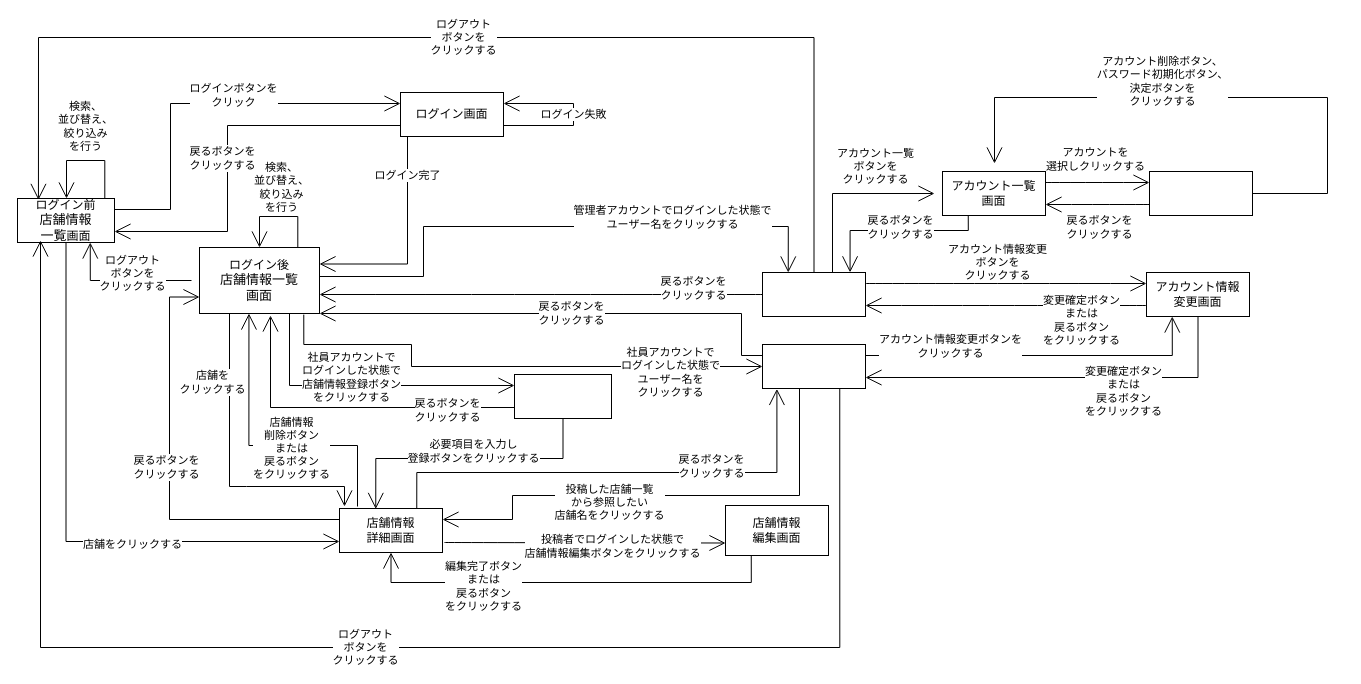
Image size: 1361x684. Some labels were removed from this diagram. The box of each missing label's shape, as (x1, y1, x2, y2) in pixels:
マイページ: (762, 344, 866, 388)
店舗情報 登録画面: (514, 374, 612, 418)
管理者メニュー 画面: (762, 272, 866, 316)
管理者用 ユーザー情報 画面: (1148, 170, 1252, 216)
